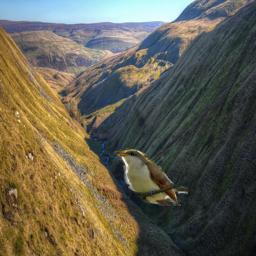Cuckoo: (112, 144, 188, 206)
